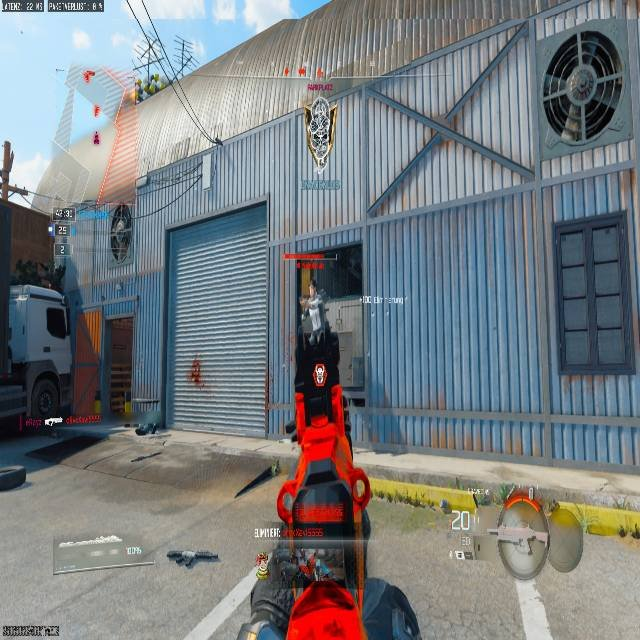head: (308, 281, 318, 296)
player: (299, 278, 333, 348)
